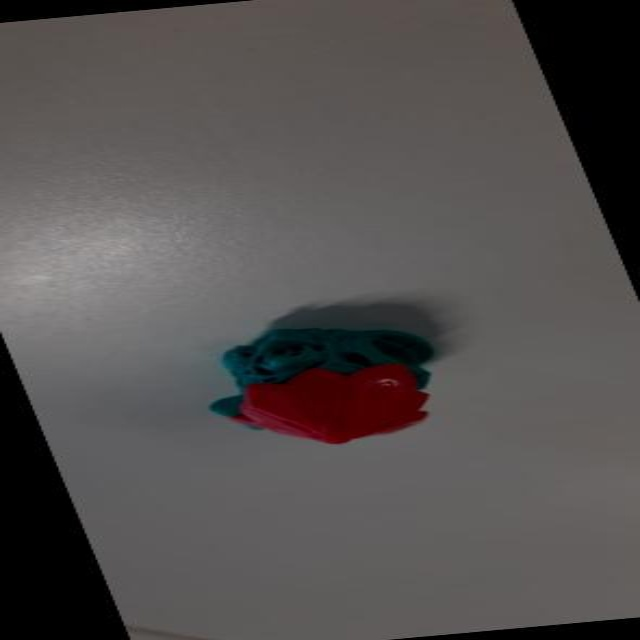House: (184, 314, 486, 456)
